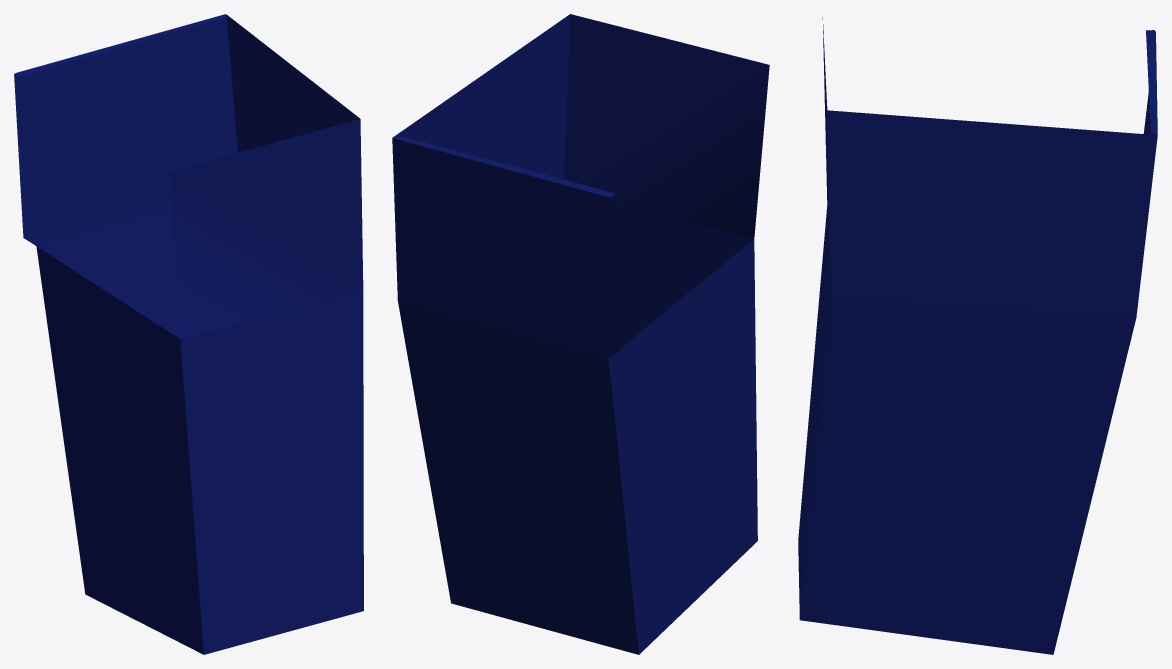
File: muslo1.obj
The picture shows the model from 3 angles, left to right: view 1: azimuth 30°, elevation 25°; view 2: azimuth 150°, elevation 25°; view 3: azimuth 270°, elevation 25°; orthographic projection. The views are drawn at different scales.
Visible parts, largest first — view 1: Cube.004; view 2: Cube.004; view 3: Cube.004.
Part boxes in pixels (<box>): Cube.004: <box>14,14,363,654</box>; Cube.004: <box>392,14,769,654</box>; Cube.004: <box>798,17,1157,654</box>.
Size of the model in its own units: 0.3129 by 0.7 by 0.4175.
1 material, 1 textured.
